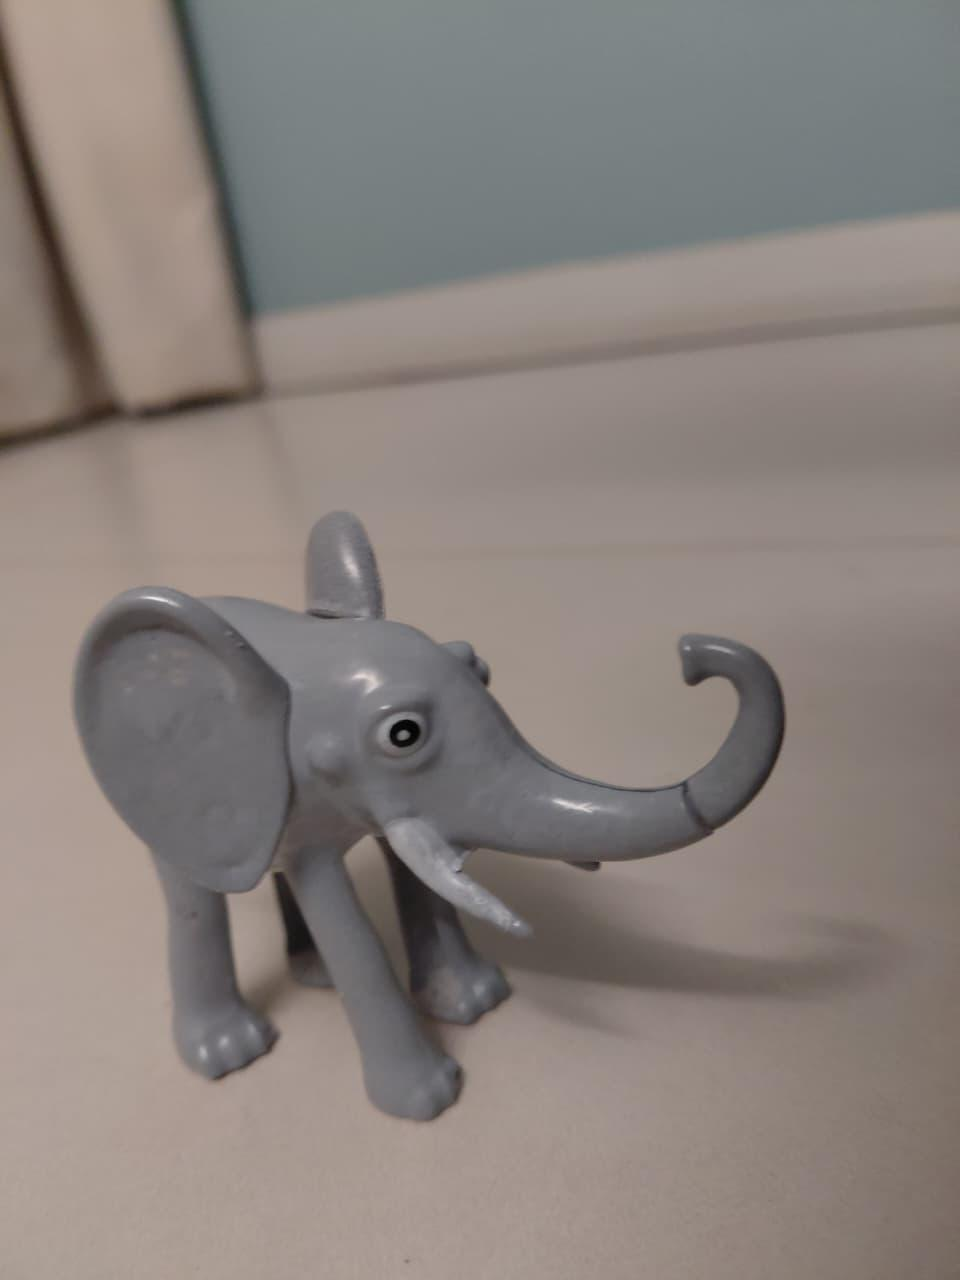elephant: (37, 493, 896, 1196)
